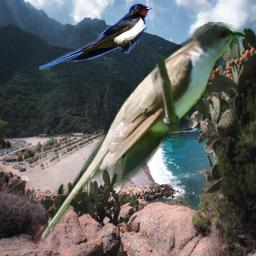Cuckoo: (37, 22, 245, 243)
Swallow: (38, 3, 152, 70)
